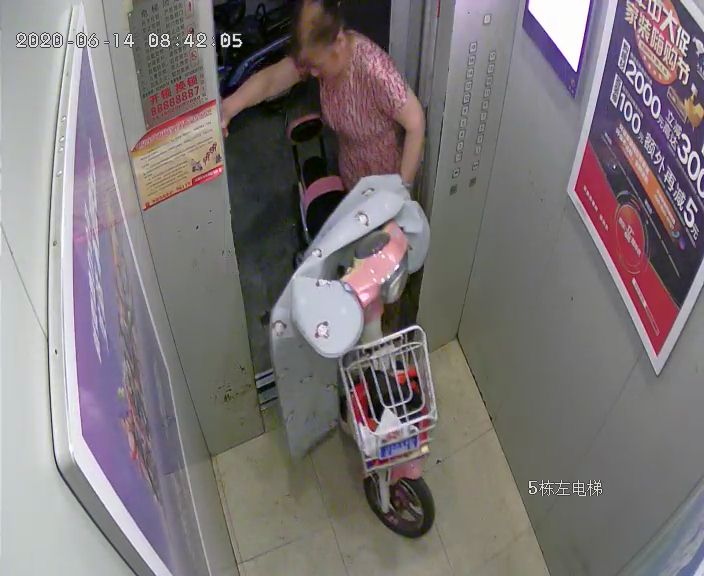Electric-bicycle: (264, 113, 439, 539)
